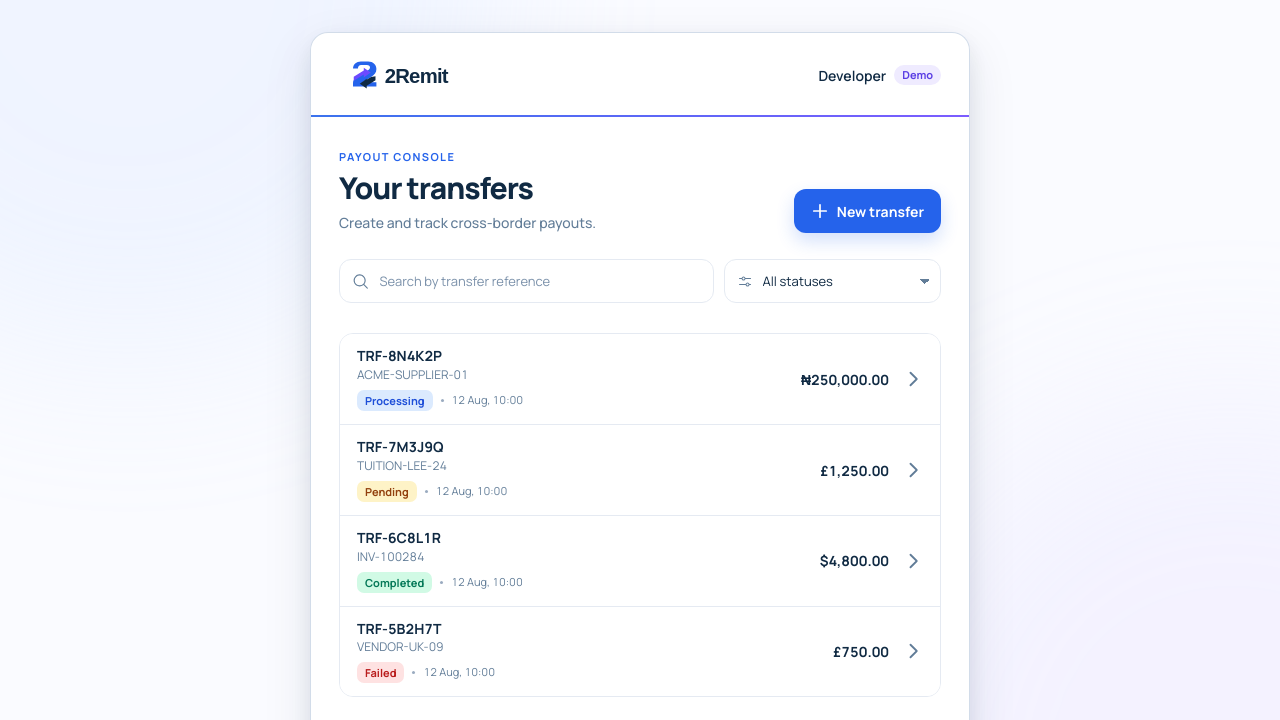
TransfersConsole › shows the filtered empty state
Expected: the text "TRF-8N4K2P" is shown, [357, 346, 442, 366]
Type "TRF-NOT-FOUND" into the search field labelled "Search by transfer reference" at (540, 282), box [380, 260, 700, 302]
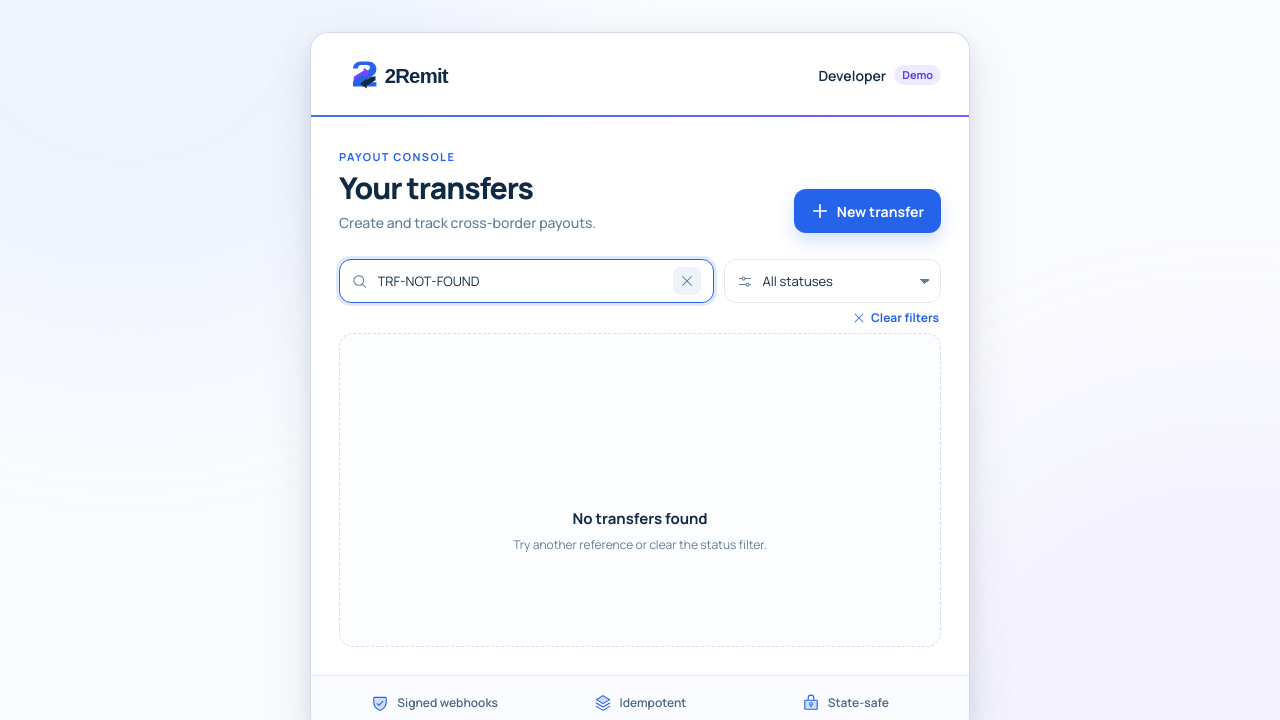
Now the text "No transfers found" is shown, box [572, 508, 708, 531]
Now the button "Clear filters" is shown, box [850, 306, 941, 332]
